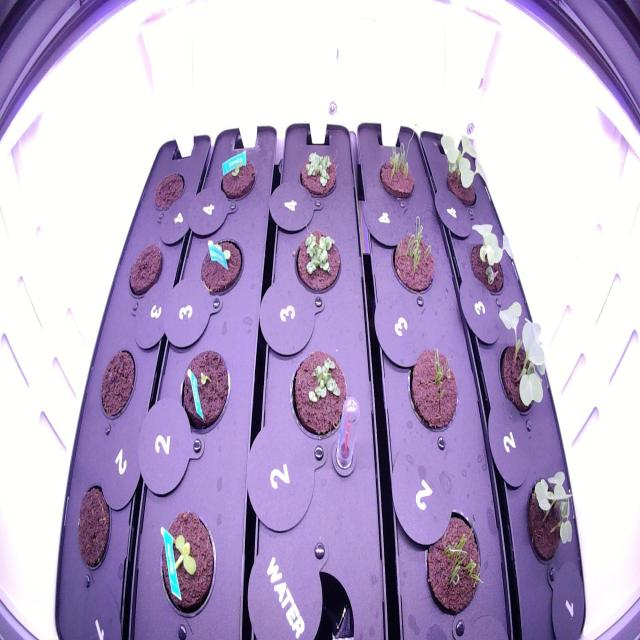germination: (486, 295, 554, 416), (420, 507, 487, 627), (283, 339, 356, 445), (404, 332, 464, 444), (522, 464, 579, 576), (174, 343, 233, 446), (387, 209, 439, 305), (438, 121, 492, 211), (463, 217, 518, 305), (374, 125, 423, 214), (191, 231, 248, 306), (292, 226, 344, 300), (293, 142, 341, 208), (212, 150, 260, 208)
pod: (71, 476, 115, 578), (95, 343, 141, 431), (123, 235, 168, 306), (152, 163, 189, 219)
young: (155, 503, 225, 625)
